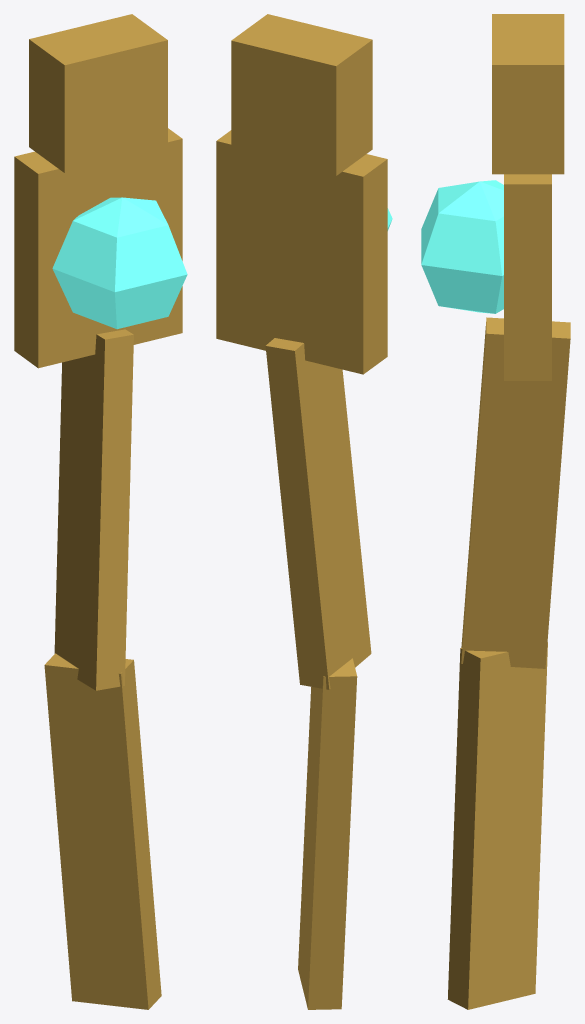
File: gear_norigae_t3_R.glb
3 views of the same model, side by side, from view 1: azimuth 30°, elevation 25°; view 2: azimuth 150°, elevation 25°; view 3: azimuth 270°, elevation 25° (orthographic).
Parts seen in each view (by area): view 1: gear_norigae_t3_R; view 2: gear_norigae_t3_R; view 3: gear_norigae_t3_R.
Part boxes in pixels (x1,y1,x2,y2): gear_norigae_t3_R: (14,14,187,1009); gear_norigae_t3_R: (216,14,392,1009); gear_norigae_t3_R: (421,14,570,1009).
Bounding box in the file's own units: 0.07 × 0.4394 × 0.0619.
